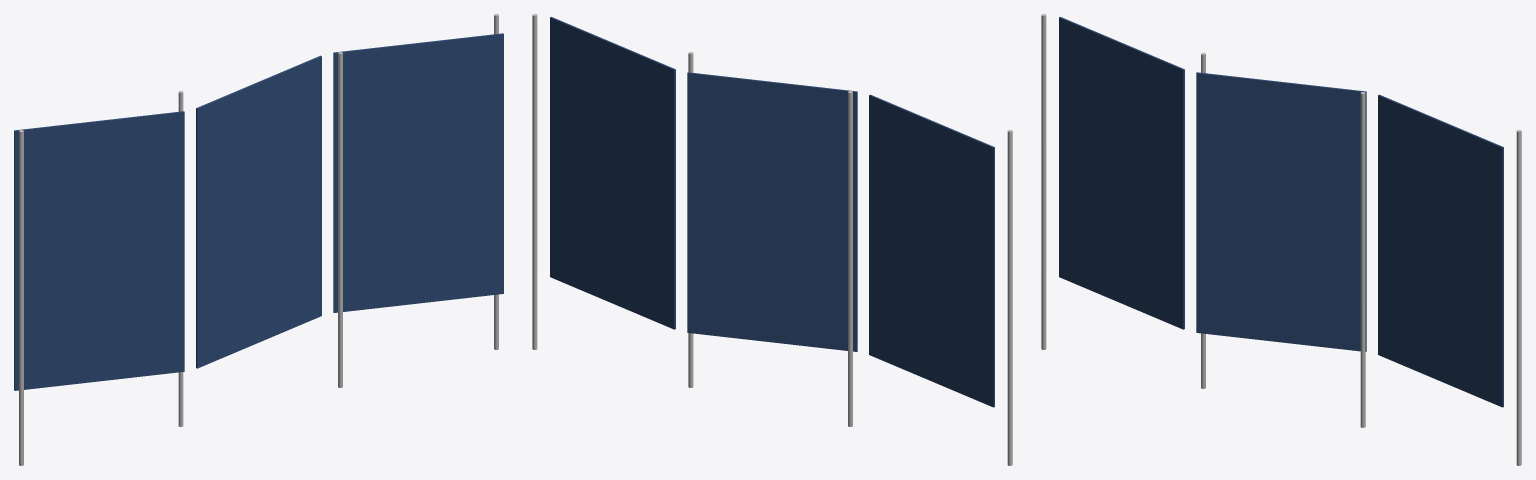
Rendered from hospital.bed.screen.glb.
3 views of the same model, side by side, from view 1: azimuth 30°, elevation 25°; view 2: azimuth 150°, elevation 25°; view 3: azimuth 330°, elevation 25° (orthographic).
Parts seen in each view (by area): view 1: main__fabric_blue, main__steel_stainless; view 2: main__fabric_blue, main__steel_stainless; view 3: main__fabric_blue, main__steel_stainless.
Boxes of the visible parts, <box> form: main__fabric_blue: <box>14,33,503,390</box>; main__steel_stainless: <box>19,14,498,465</box>; main__fabric_blue: <box>550,17,994,407</box>; main__steel_stainless: <box>532,14,1012,465</box>; main__fabric_blue: <box>1059,17,1503,407</box>; main__steel_stainless: <box>1041,14,1521,465</box>.
Size of the model in its own units: 2.7 by 1.8 by 0.2322.
